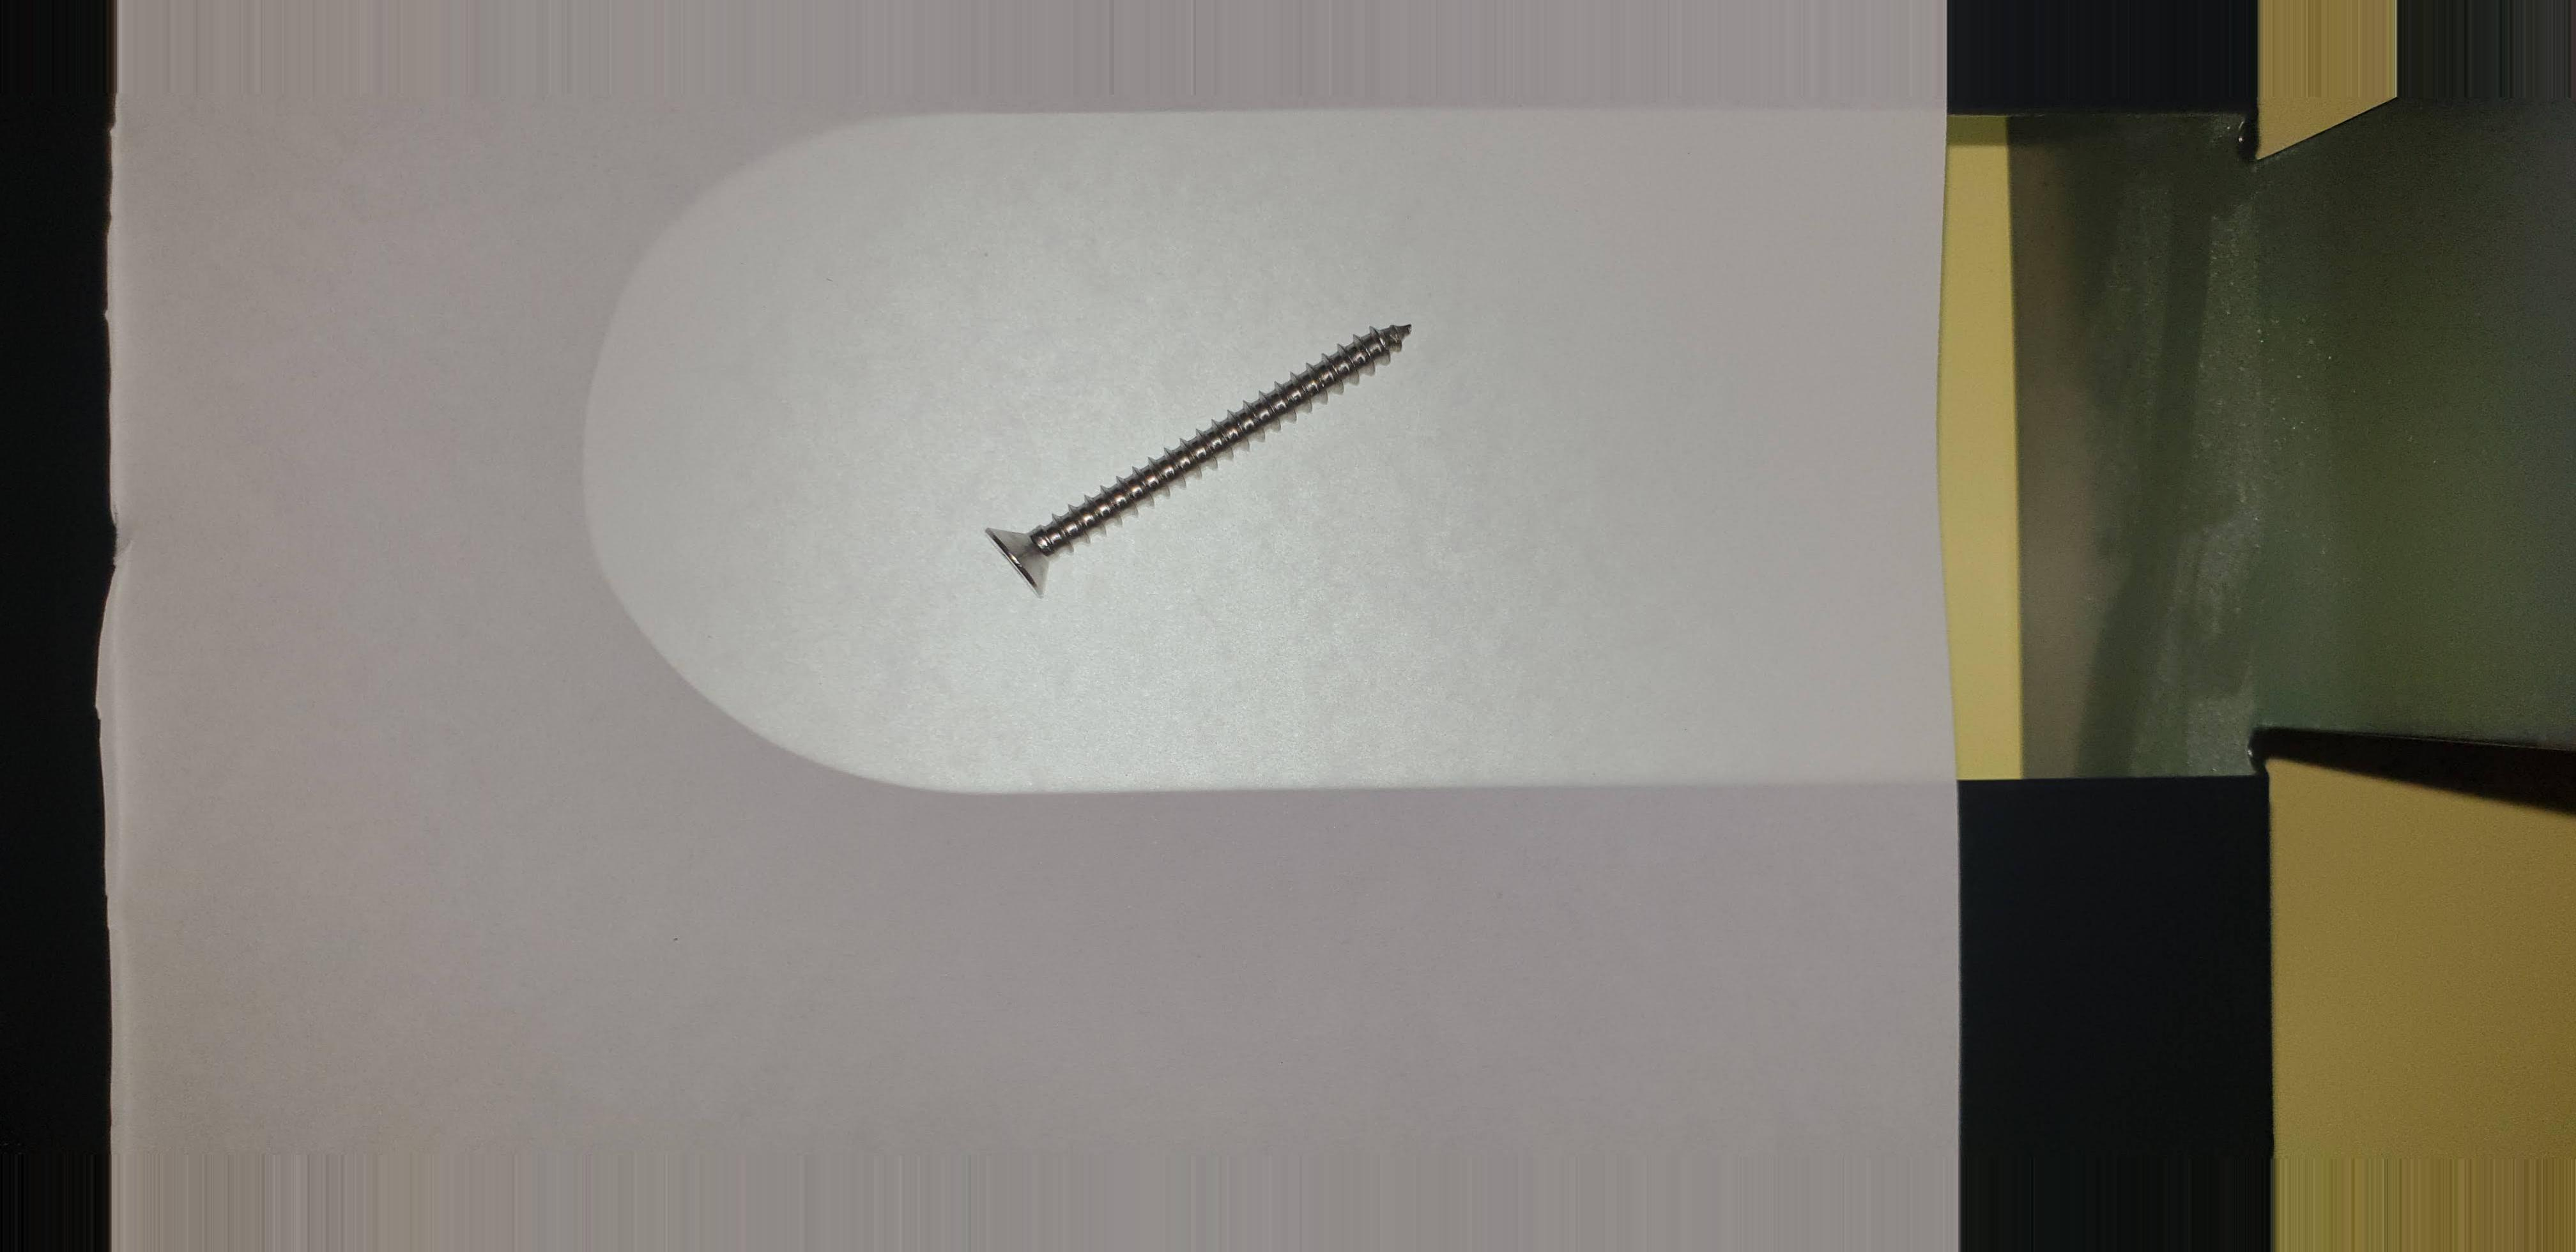fastener: (923, 302, 1460, 619)
